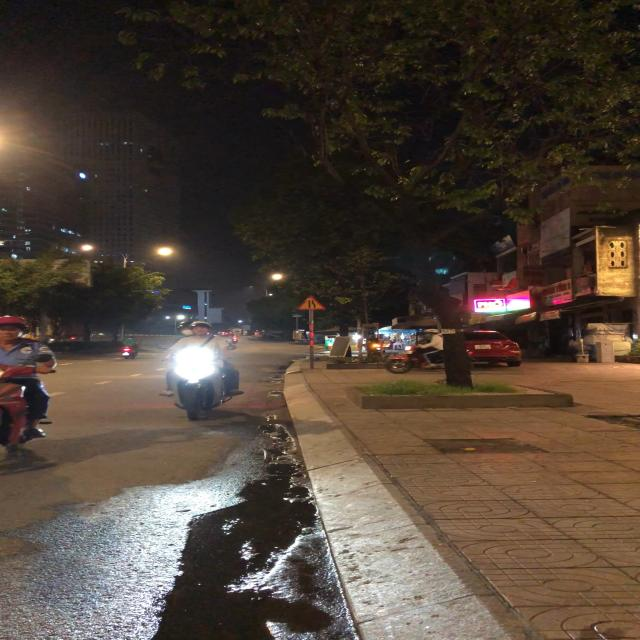Bien bao duong bi thu hep: (290, 293, 330, 311)
